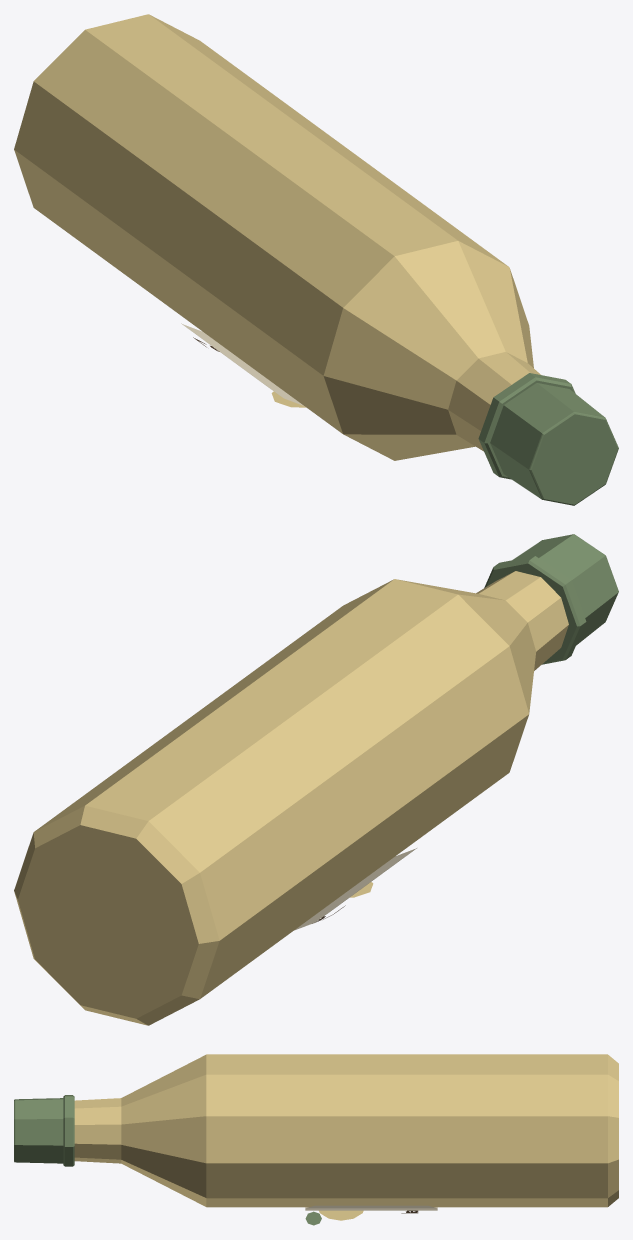
Rendered from lemonade.glb.
3 renders of one model, top to bottom at view 1: azimuth 30°, elevation 25°; view 2: azimuth 150°, elevation 25°; view 3: azimuth 270°, elevation 25°, orthographic. The views are drawn at different scales.
Visible parts, largest first — view 1: lemonade; view 2: lemonade; view 3: lemonade.
Boxes of the visible parts, bbox=[...] form: lemonade: bbox=[14, 14, 618, 505]; lemonade: bbox=[14, 534, 618, 1025]; lemonade: bbox=[14, 1054, 618, 1225].
Size of the model in its own units: 0.056 by 0.0576 by 0.22.
